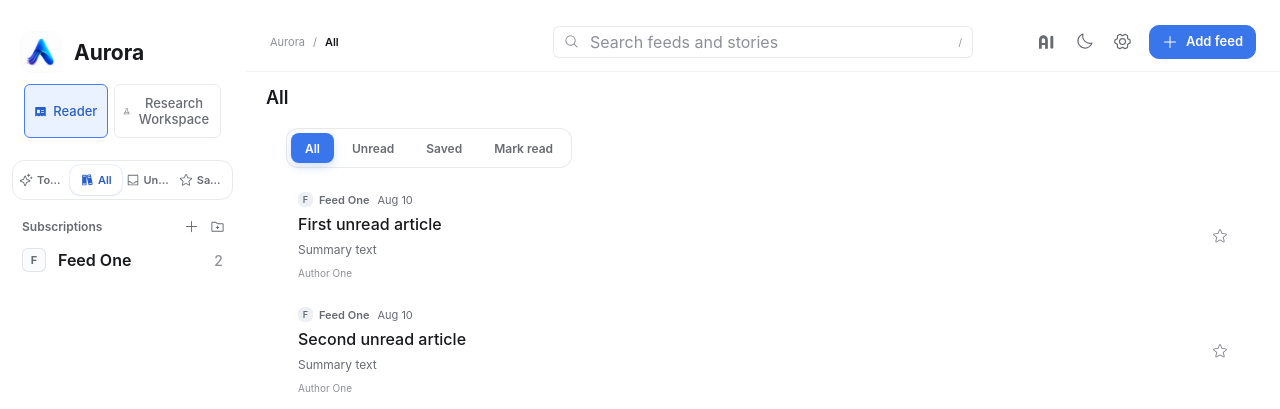
Test case: auto mark-read on article open › applies duplicate read responses to the unread count only once
The width and height of the screenshot is (1280, 409).
Click the button "First unread article".
click(344, 200)  # box x1=286 y1=178 x2=1206 y2=293
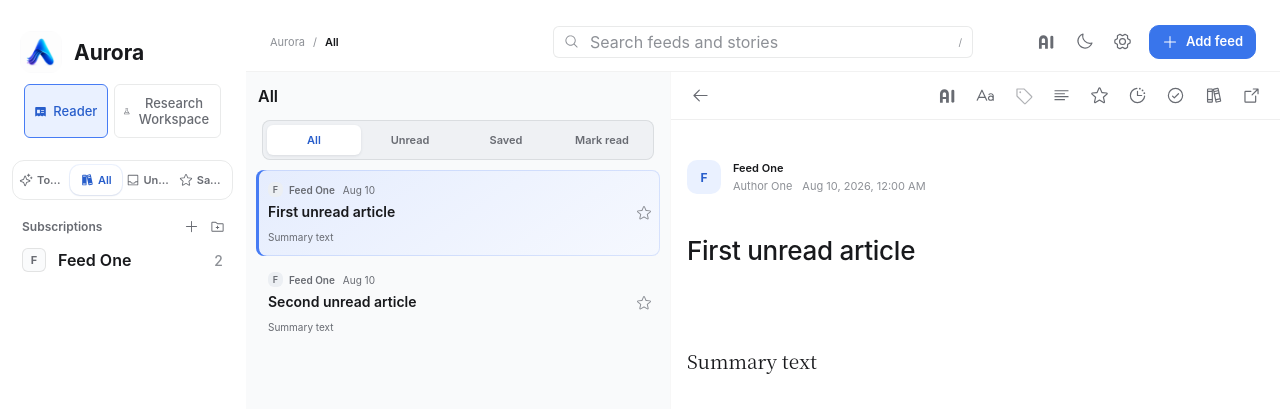
Now the heading "First unread article" below "Author One" is shown, box x1=687 y1=235 x2=915 y2=266
Click the button named "Mark read".
click(1175, 96)  # box x1=1158 y1=78 x2=1192 y2=112
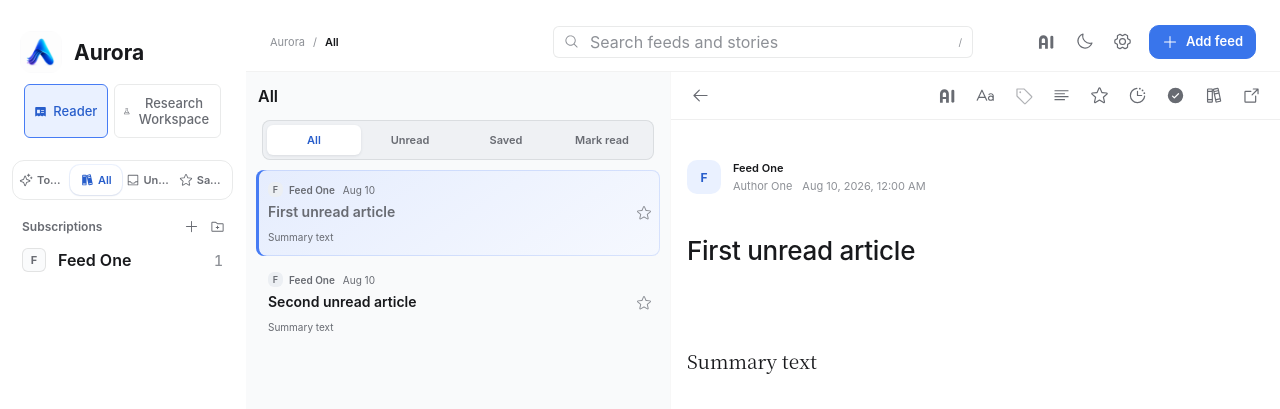
Now the text with class "feed-row__count" reads "1", box x1=214 y1=252 x2=223 y2=268
